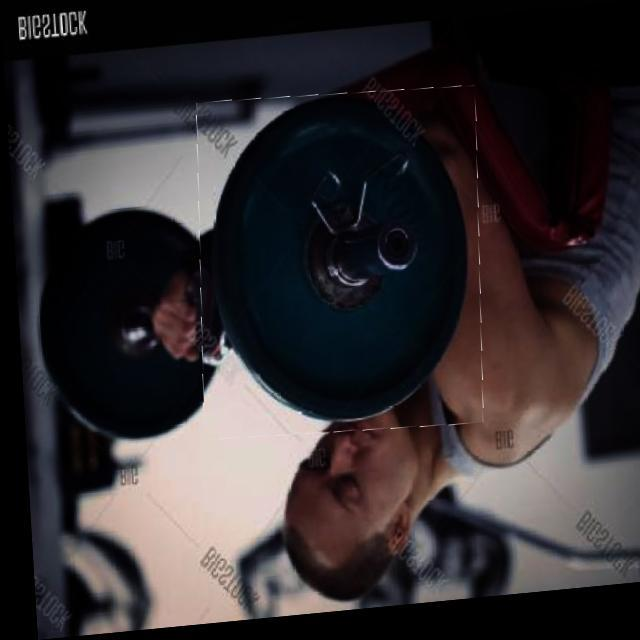barbell: (188, 89, 487, 450)
